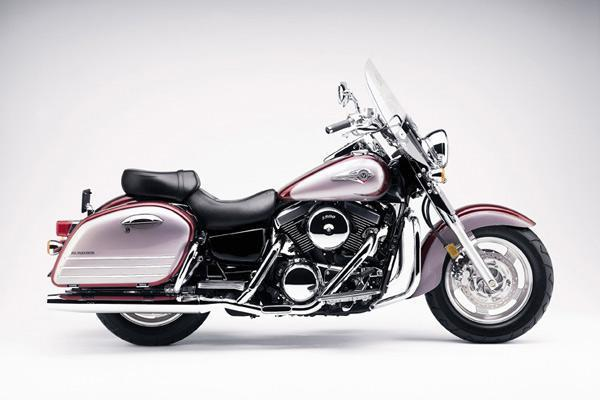motorcycle: (47, 52, 552, 357)
